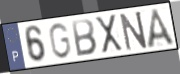6: (24, 24, 47, 64)
A: (147, 7, 178, 51)
B: (70, 18, 98, 58)
G: (48, 22, 73, 60)
N: (118, 10, 149, 53)
X: (94, 13, 125, 56)
